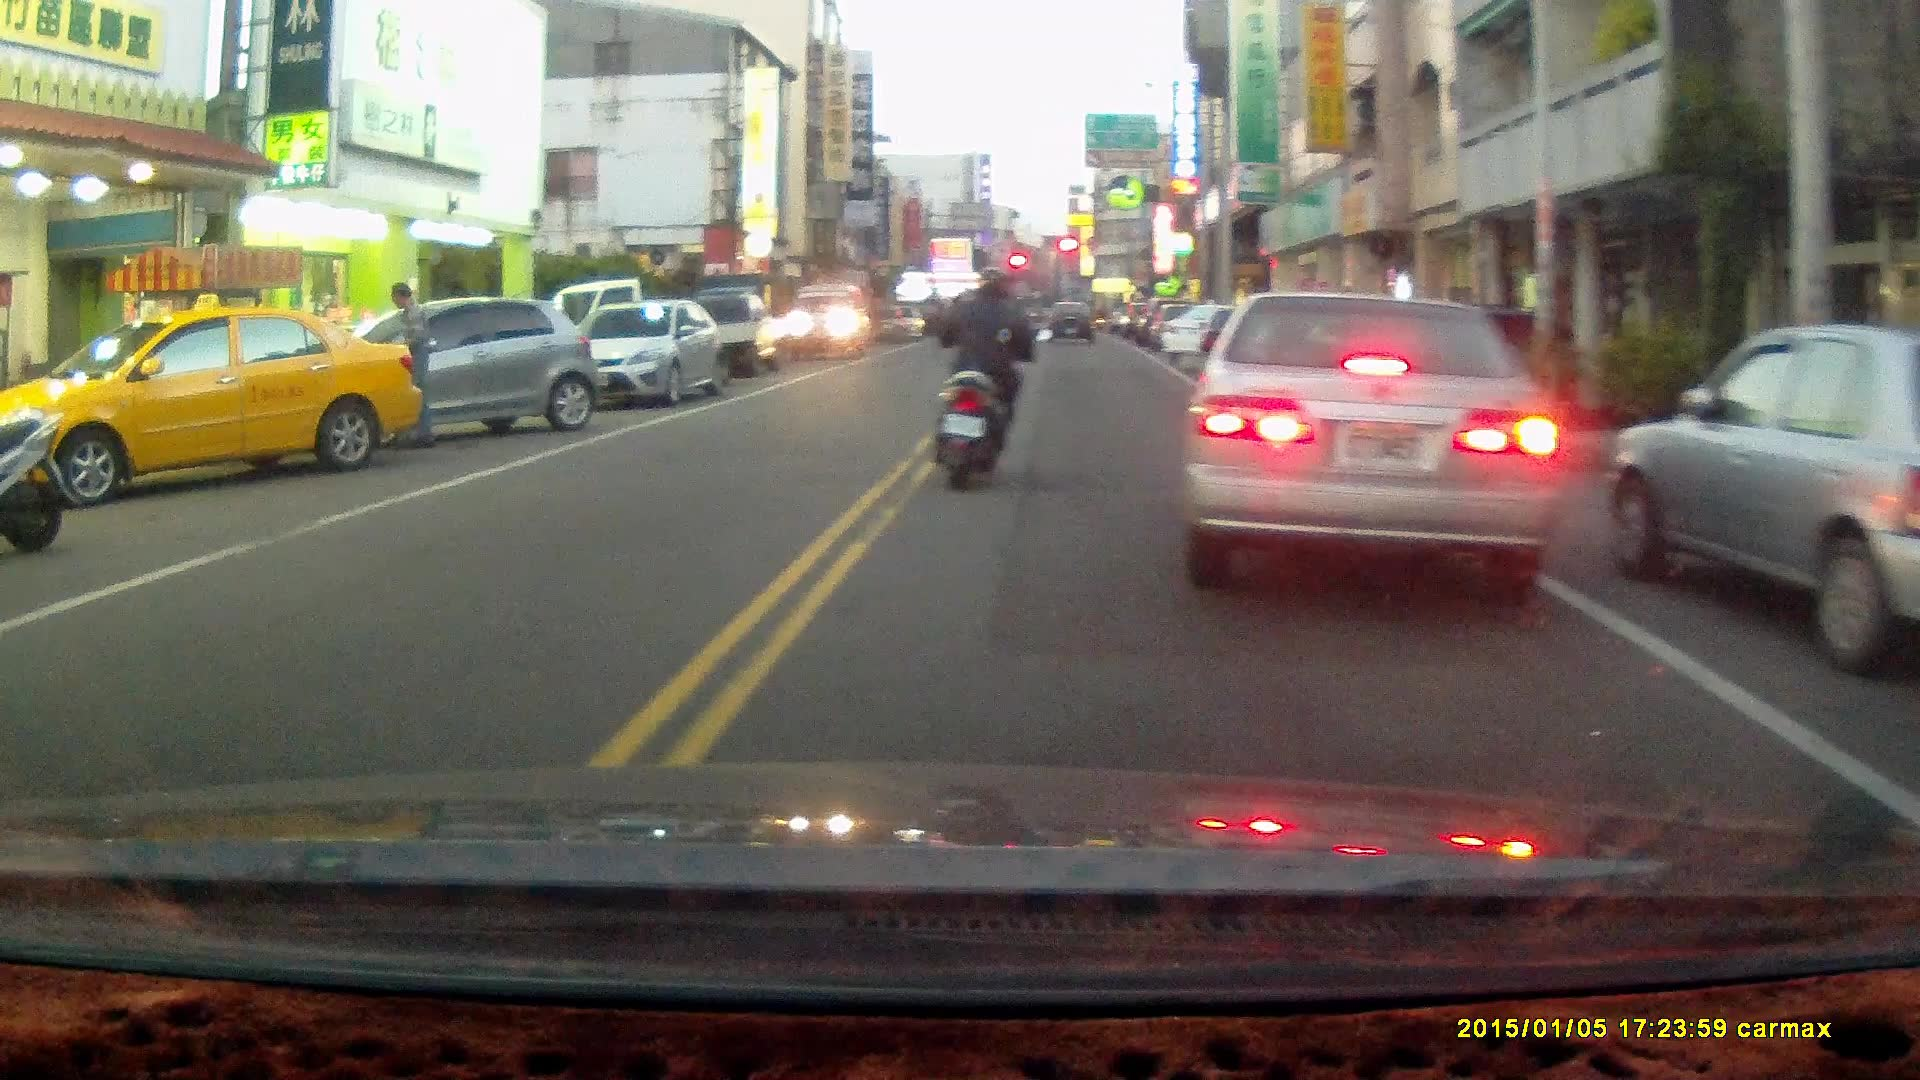pedestrian: (384, 279, 443, 451)
rider: (926, 260, 1051, 485)
vehicle: (1174, 281, 1563, 592), (1614, 311, 1920, 674), (1, 304, 419, 509), (317, 292, 605, 435), (575, 297, 731, 408), (712, 286, 808, 380), (787, 279, 870, 356)
